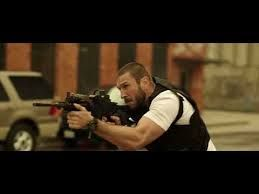gun: (26, 85, 130, 133)
